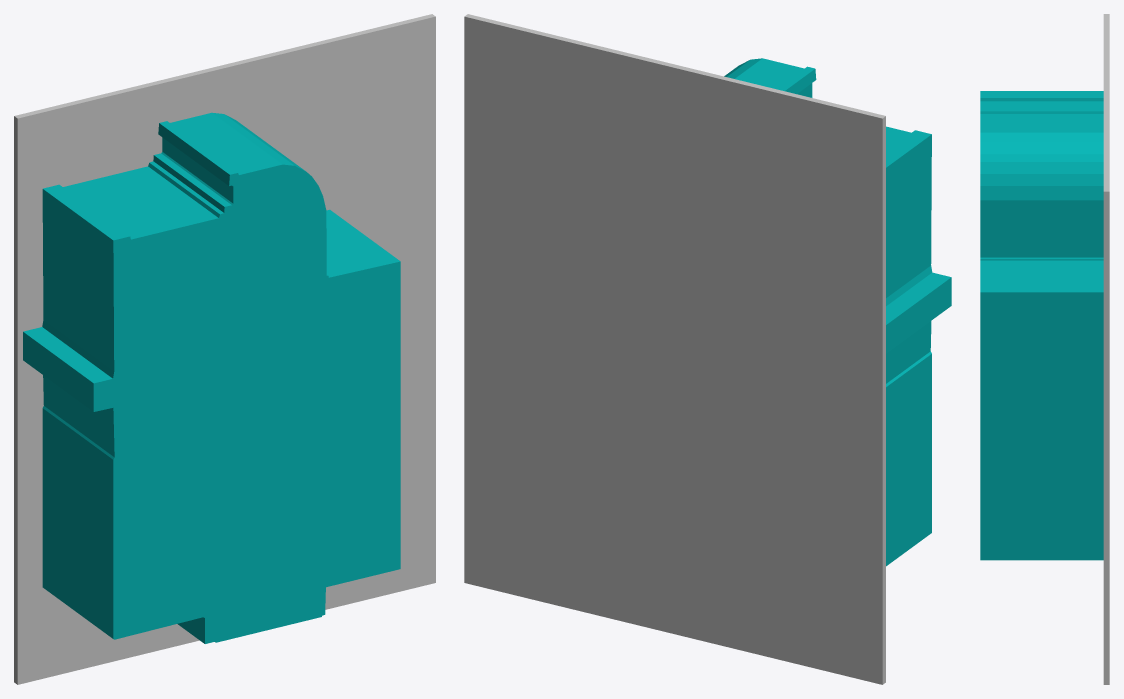
3 views of the same model, side by side, from view 1: azimuth 30°, elevation 25°; view 2: azimuth 150°, elevation 25°; view 3: azimuth 270°, elevation 25° (orthographic). The views are drawn at different scales.
Parts seen in each view (by area): view 1: world; view 2: world; view 3: world.
Boxes of the visible parts, x1=… form: world: x1=14, y1=14, x2=435, y2=684; world: x1=464, y1=14, x2=951, y2=684; world: x1=980, y1=14, x2=1109, y2=684.
Bounding box in the file's own units: 10.23 × 13.24 × 3.15.
